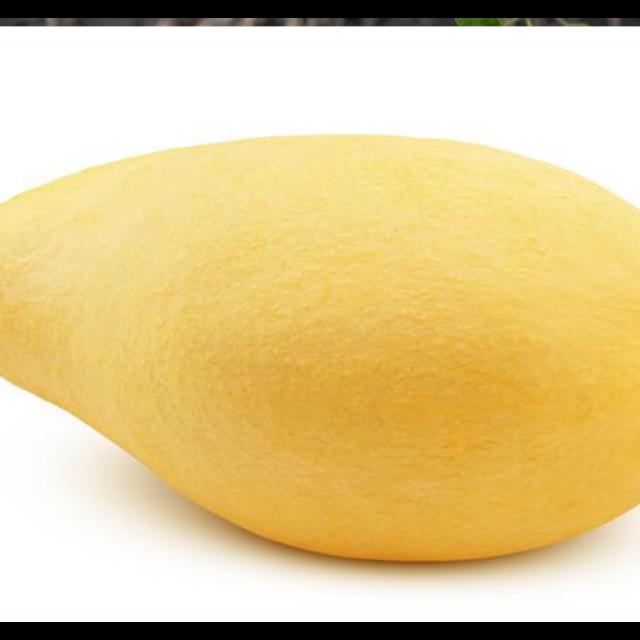mango: (0, 128, 640, 570)
